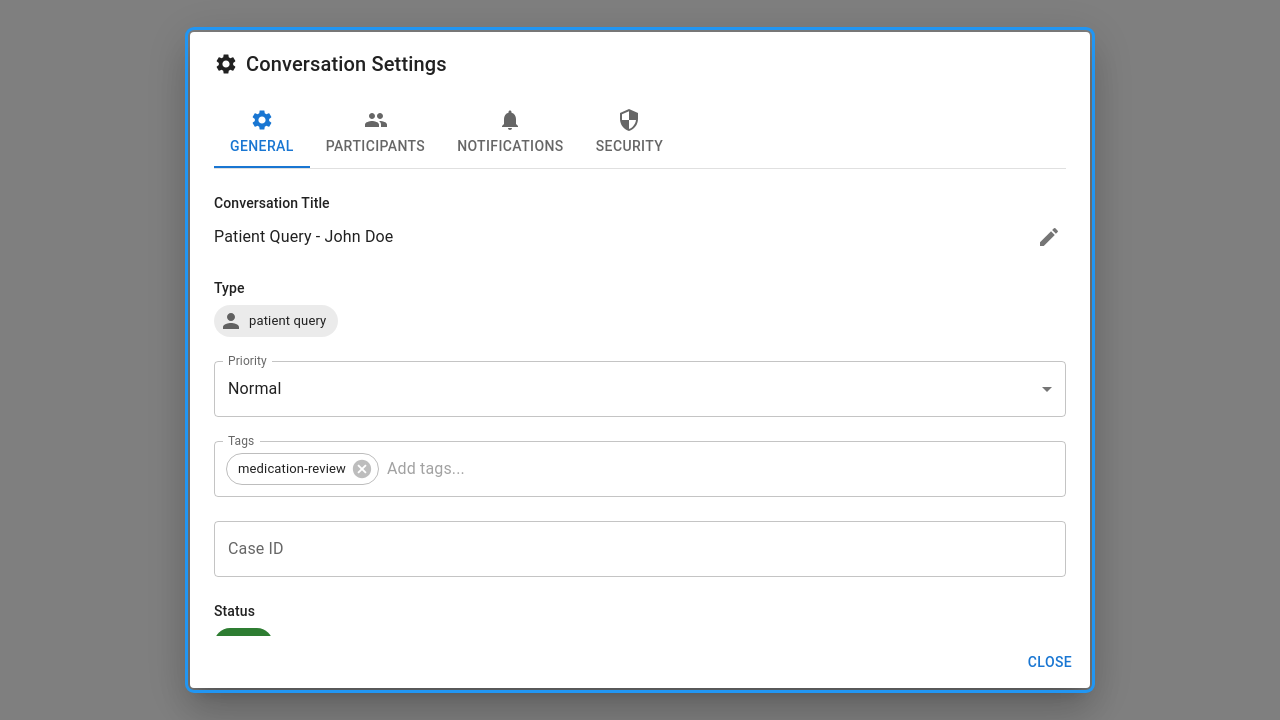
Test: ConversationSettings › displays notification settings in notifications tab
Click the tab "Notifications".
click(510, 132)  # box [441, 96, 580, 168]
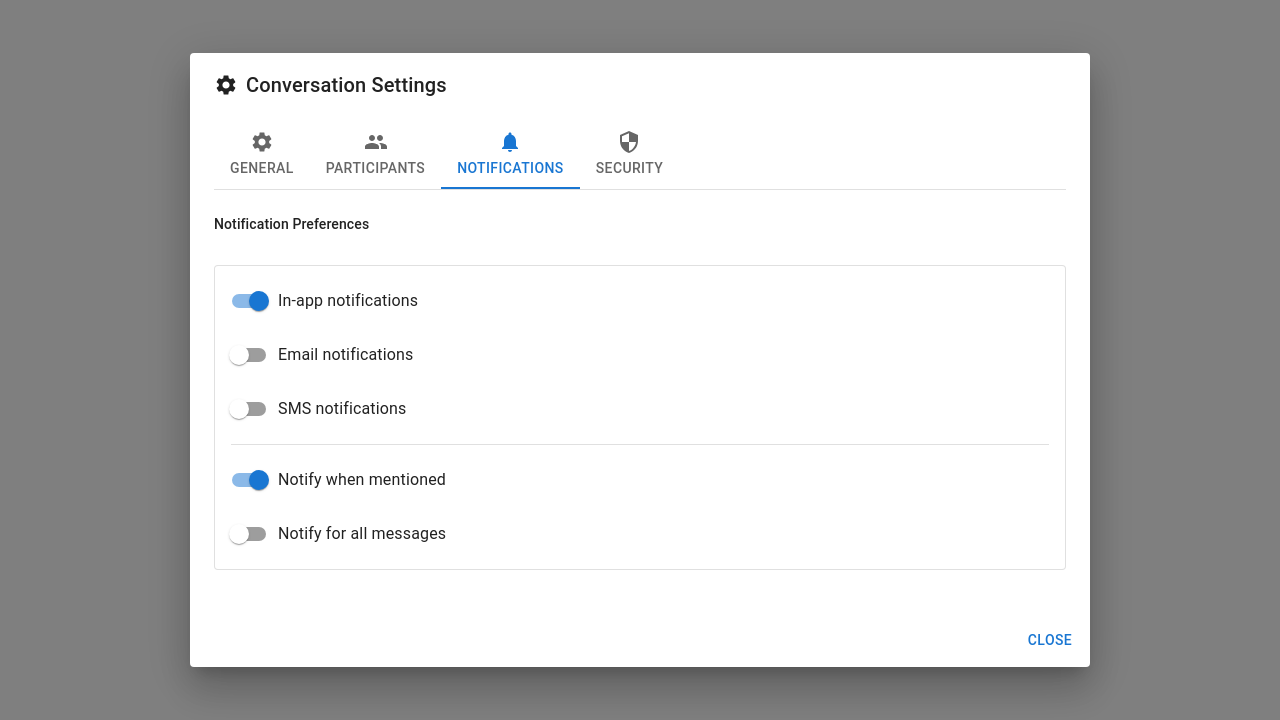
Now the heading "Notification Preferences" is shown, box [214, 216, 369, 232]
Now the text "In-app notifications" is shown, box [278, 289, 418, 313]
Now the text "Email notifications" is shown, box [278, 343, 413, 367]
